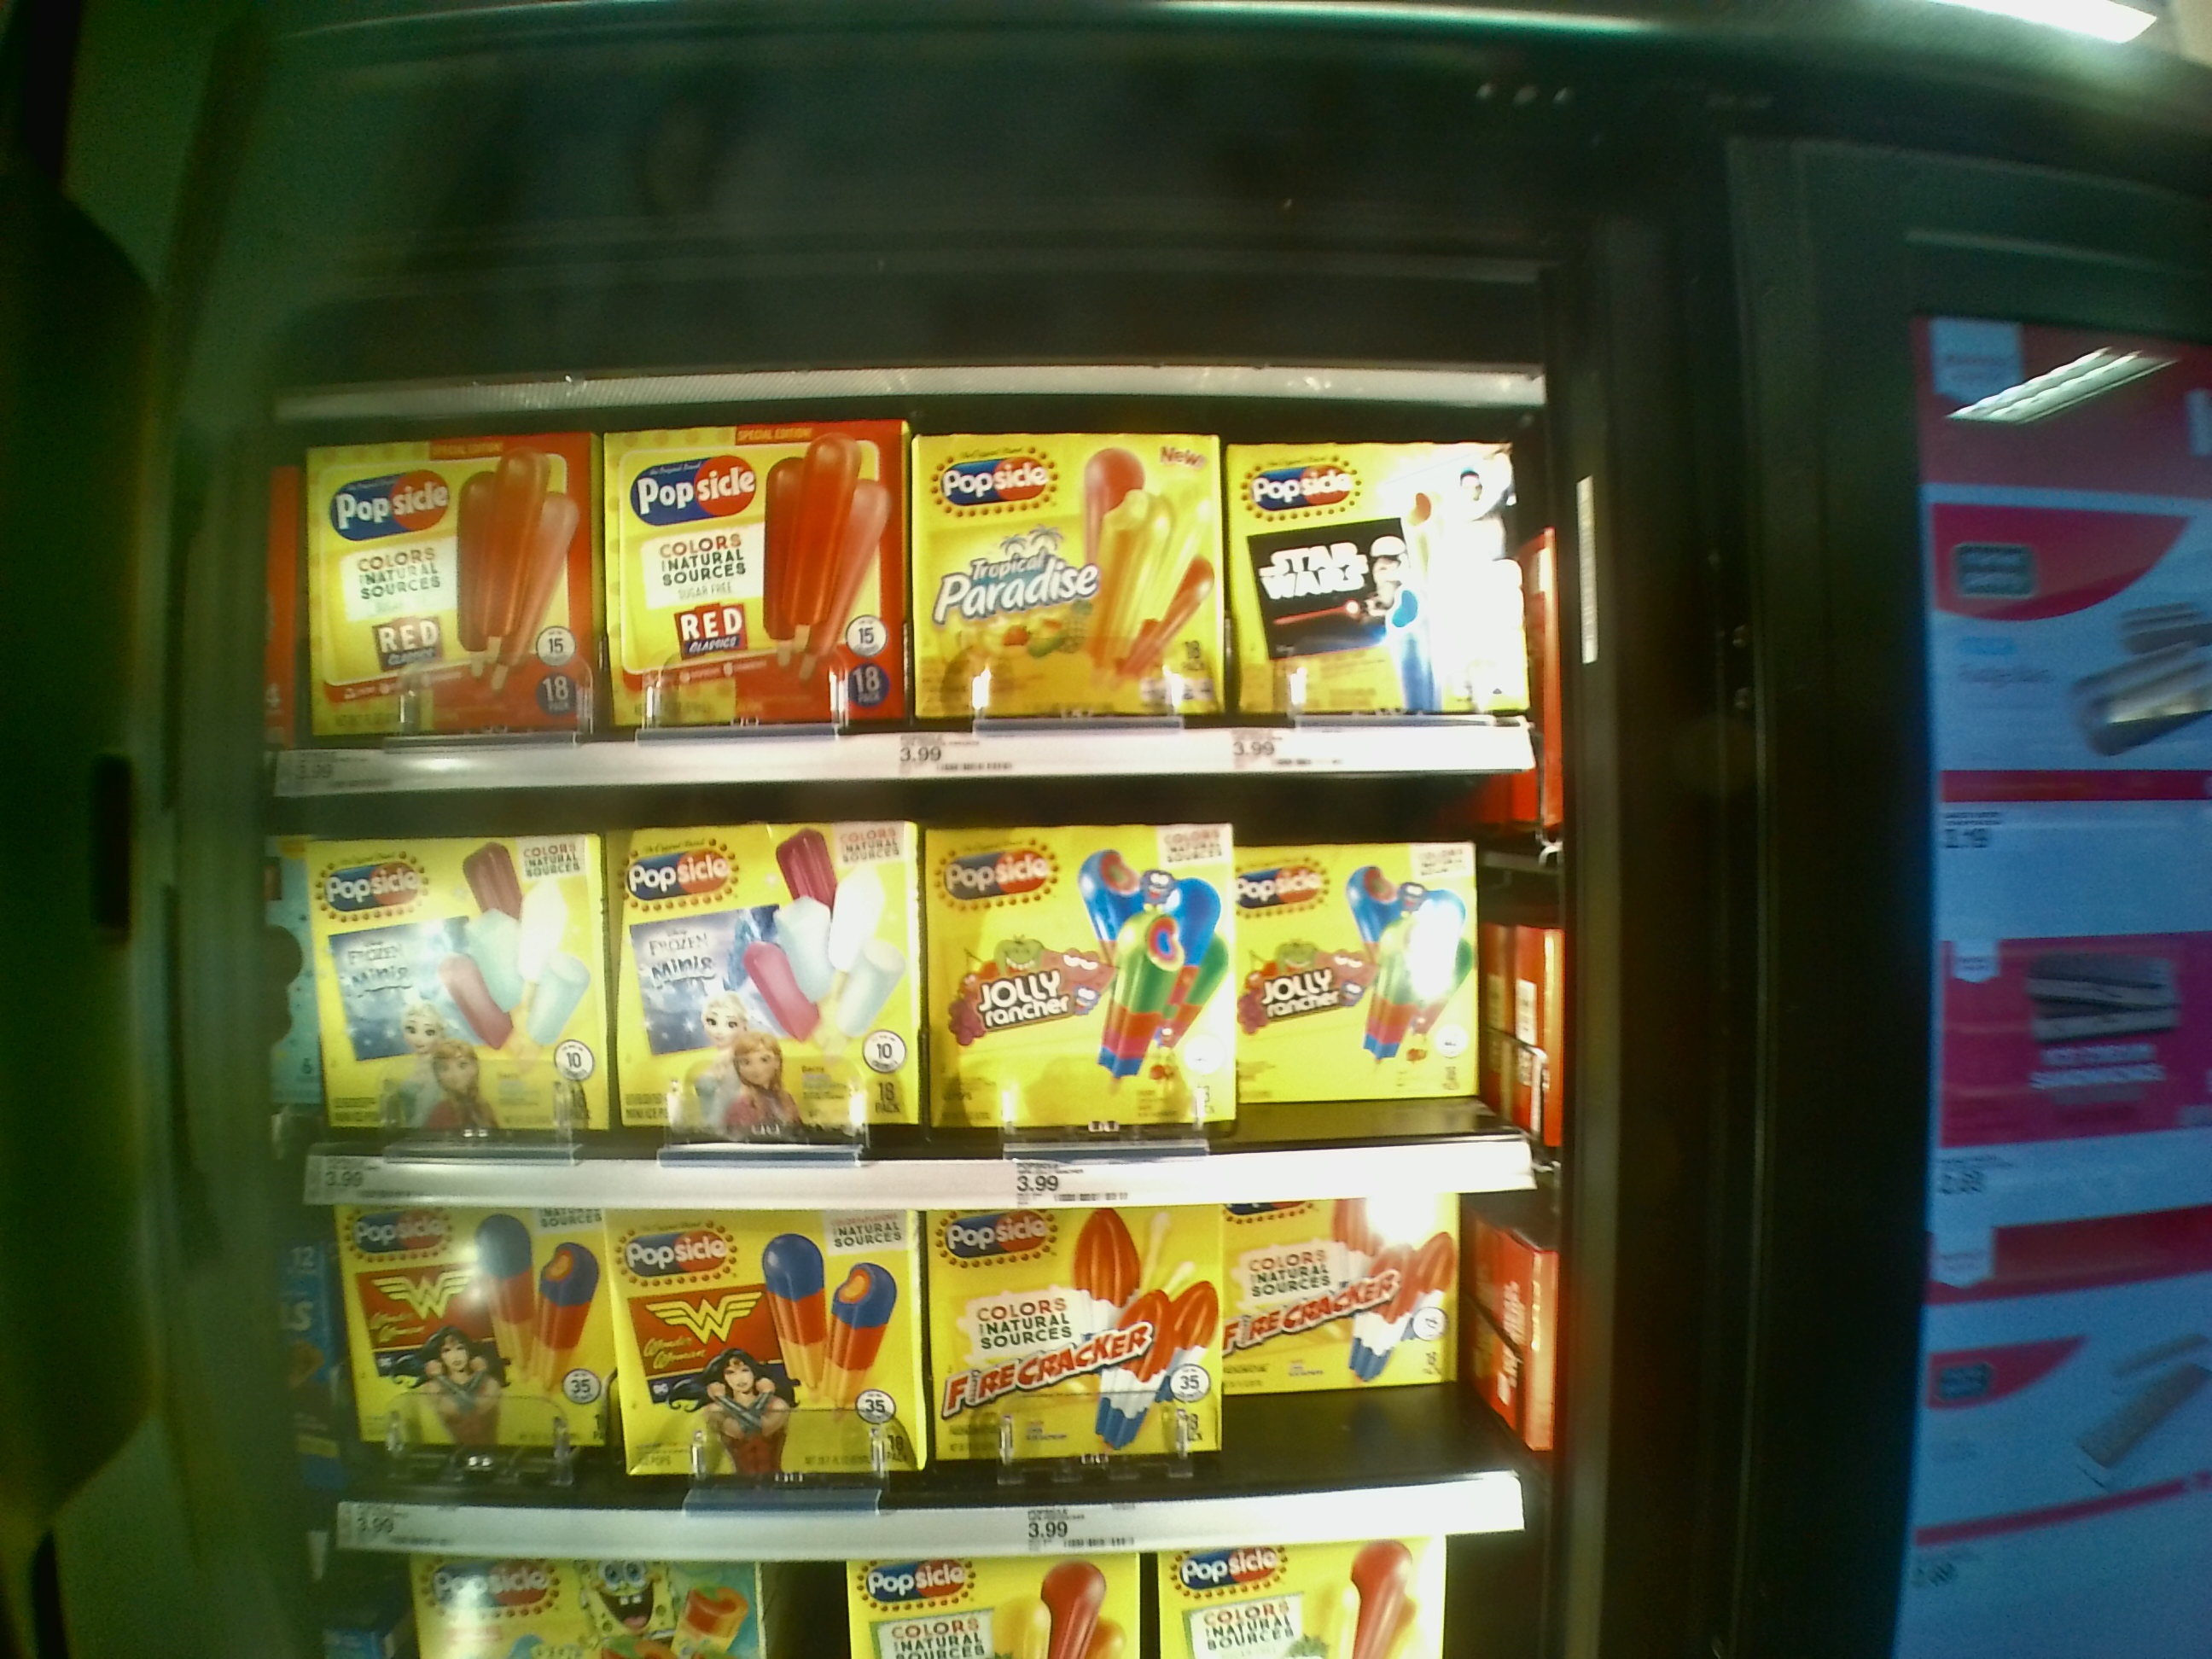frozen-food-shelf: (263, 793, 1550, 1211), (265, 413, 1541, 796), (244, 1202, 1575, 1565)
